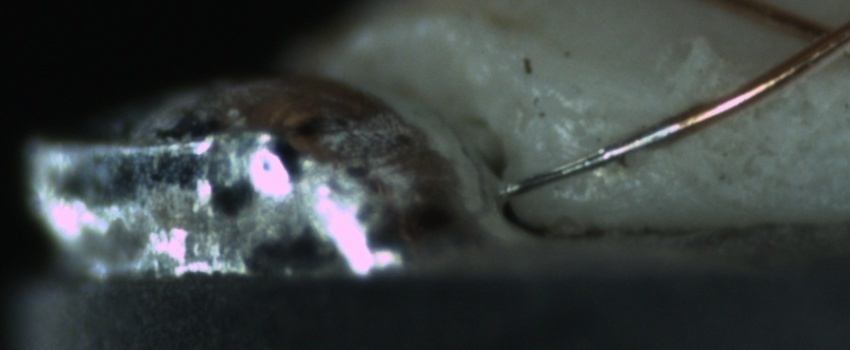CL: (779, 6, 850, 68)
TS: (506, 112, 682, 196)
TTCW: (504, 87, 693, 200)
